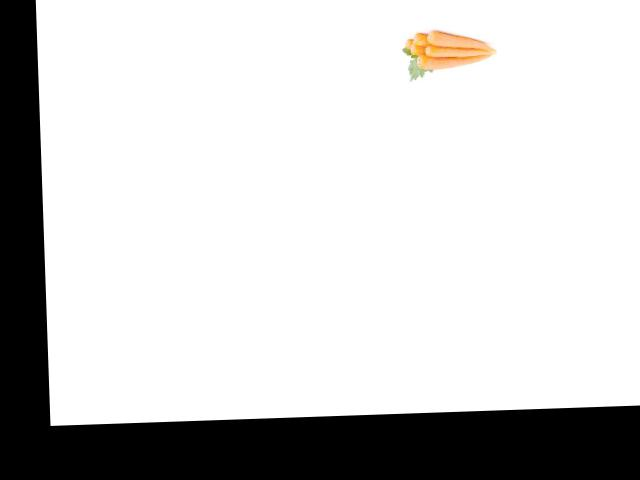carrot: (402, 37, 414, 50)
